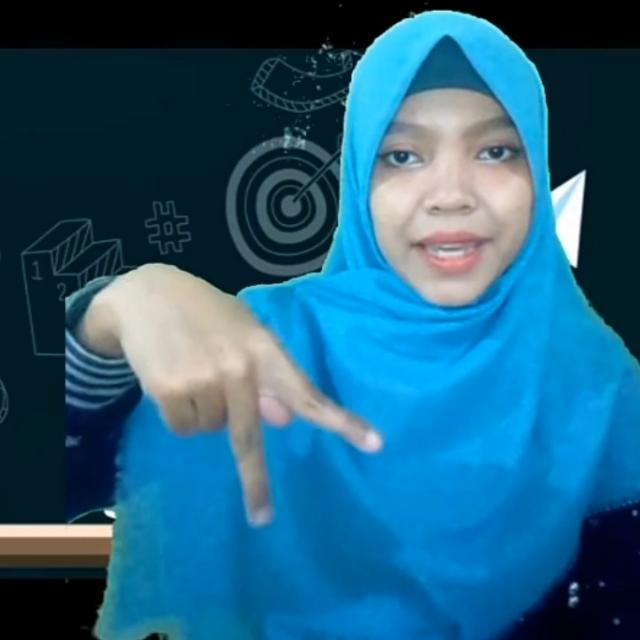P: (107, 225, 391, 542)
